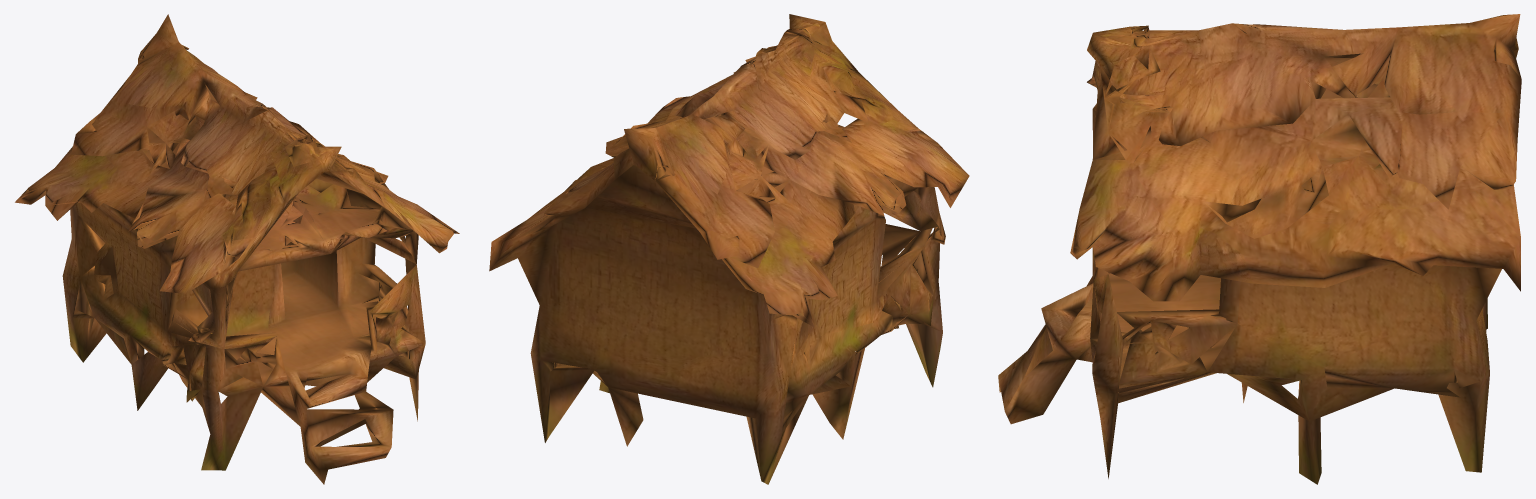
Rendered from p_hut.glb.
The picture shows the model from 3 angles, left to right: view 1: azimuth 30°, elevation 25°; view 2: azimuth 150°, elevation 25°; view 3: azimuth 270°, elevation 25°; orthographic projection. The views are drawn at different scales.
Parts seen in each view (by area): view 1: tripo_node_e489627e-f956-493c-8115-5c350499e1a9; view 2: tripo_node_e489627e-f956-493c-8115-5c350499e1a9; view 3: tripo_node_e489627e-f956-493c-8115-5c350499e1a9.
Boxes of the visible parts, x1,y1,x2,y2 form: tripo_node_e489627e-f956-493c-8115-5c350499e1a9: (15, 14, 459, 484); tripo_node_e489627e-f956-493c-8115-5c350499e1a9: (489, 14, 969, 484); tripo_node_e489627e-f956-493c-8115-5c350499e1a9: (998, 14, 1521, 484).
Bounding box in the file's own units: 0.9835 × 1 × 1.16.
1 material, 1 textured.
